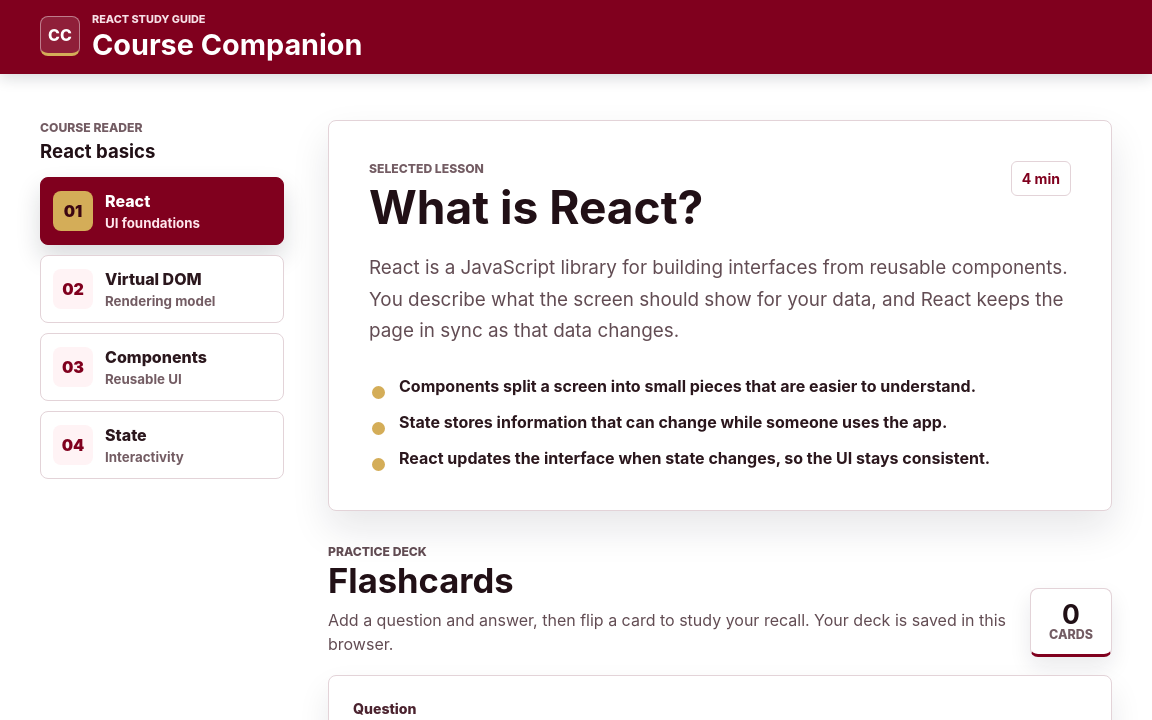
it: docs reader › shows the topic you select and marks only its button as pressed
What coordinates should you click on to do the following:
click the button "02 Virtual DOM Rendering model"
I would click on:
 (162, 289)
Its box is [40,255,284,323].
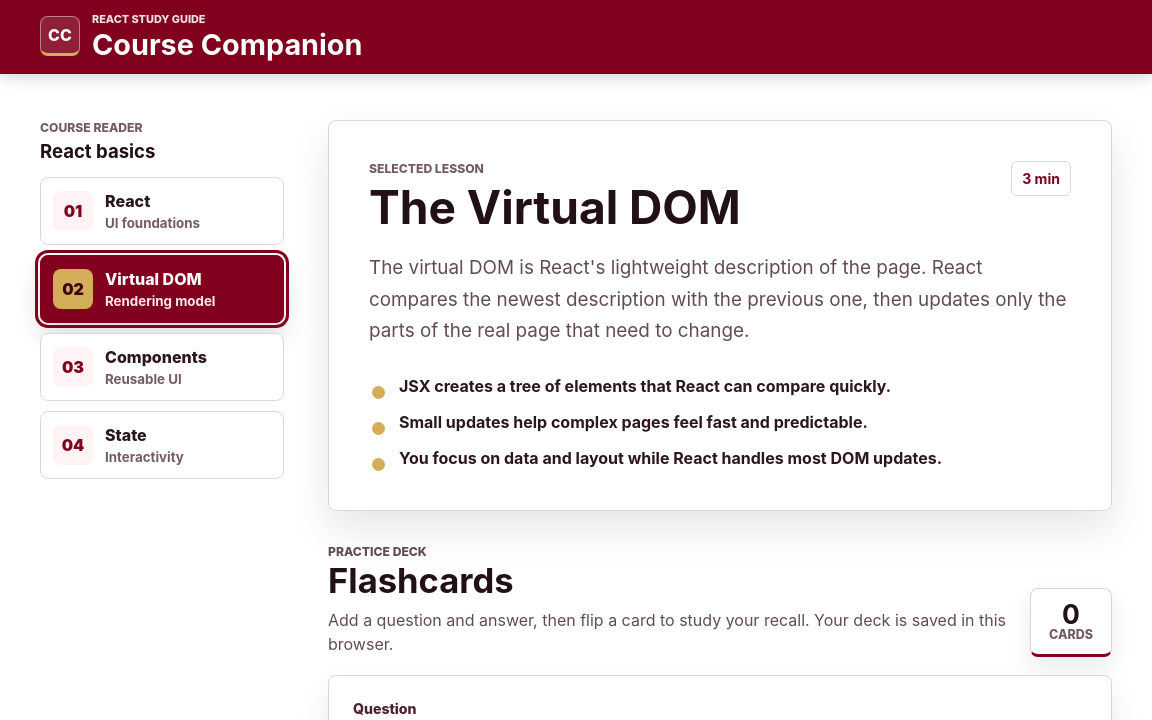
Result: the heading "The Virtual DOM" is shown at [369,182,741,232]
Result: the heading "What is React?" is gone
